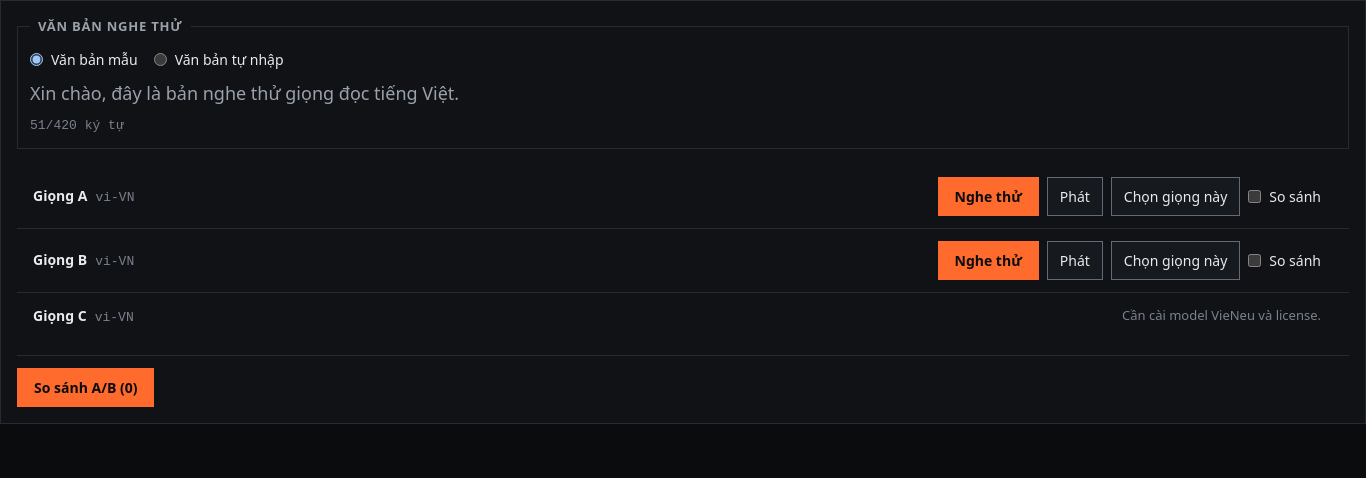
Test case: VoicePreviewPanel (A02) › so sánh A/B cần ít nhất hai giọng
Click the button "So sánh A/B (0)". click: (86, 388)
box: [17,368,154,407]
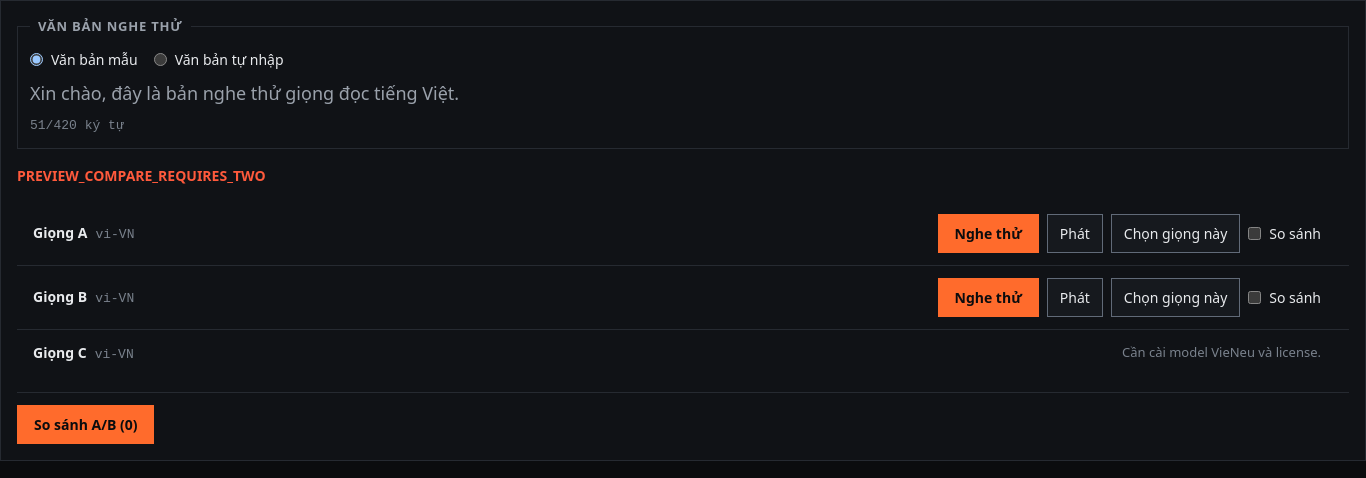
Check: the message "PREVIEW_COMPARE_REQUIRES_TWO" is shown, box [17,166,266,185]
